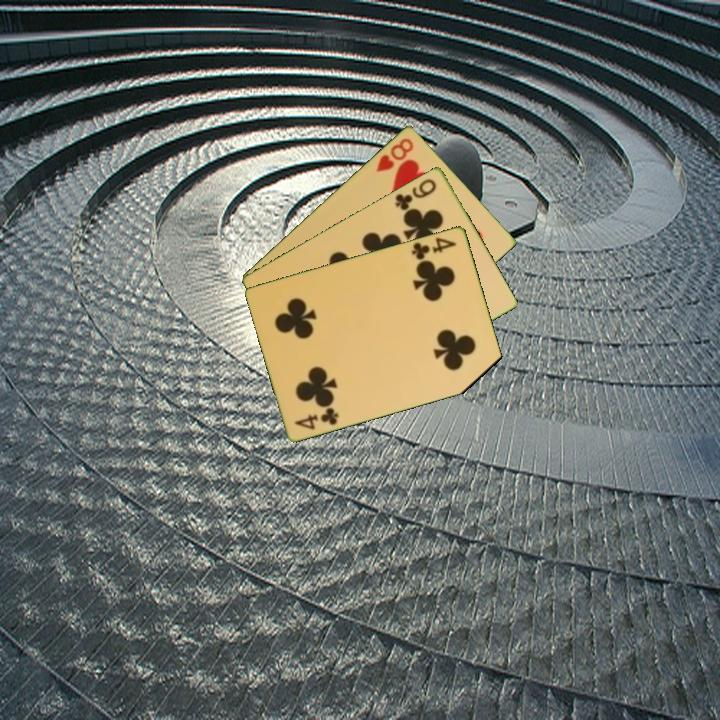4c: (408, 233, 459, 263), (292, 404, 342, 432)
8h: (372, 134, 416, 174)
9c: (391, 175, 439, 213)
